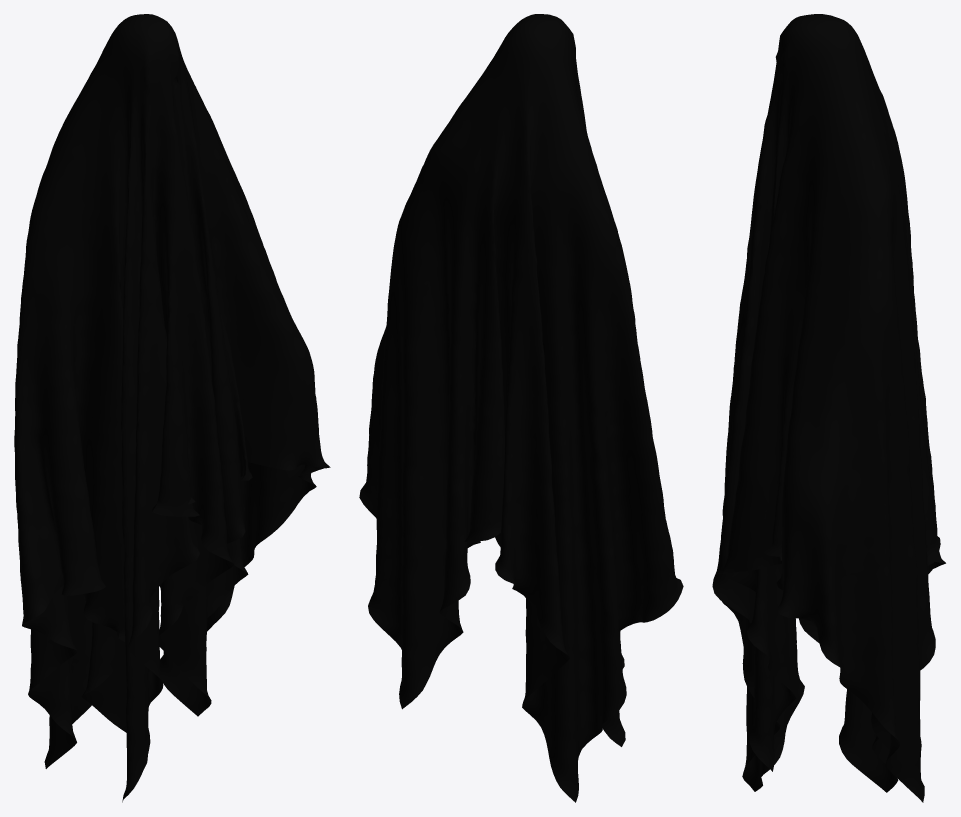
The model's file is GhostModel.fbx.
The picture shows the model from 3 angles, left to right: view 1: azimuth 30°, elevation 25°; view 2: azimuth 150°, elevation 25°; view 3: azimuth 270°, elevation 25°; orthographic projection. The views are drawn at different scales.
Visible parts, largest first — view 1: cloth_parent; view 2: cloth_parent; view 3: cloth_parent.
Part boxes in pixels (left/top/right/bottom): cloth_parent: left=14, top=14, right=330, bottom=802; cloth_parent: left=359, top=14, right=683, bottom=802; cloth_parent: left=712, top=14, right=945, bottom=802.
Bounding box in the file's own units: 846 × 1994 × 521.
1 material, 1 textured.
